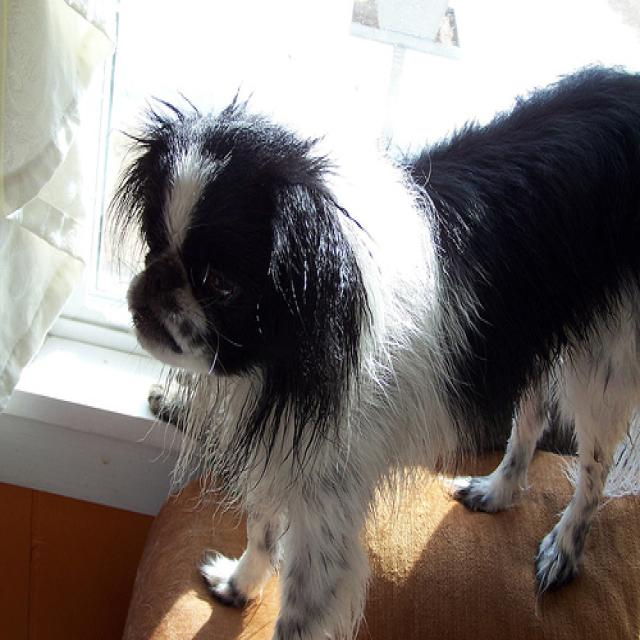dog-japanese_chin: (113, 53, 637, 637)
